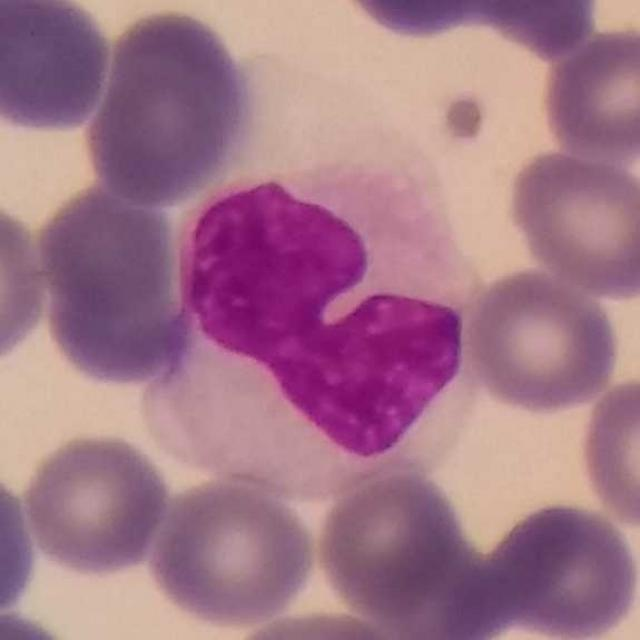Monocyte: (137, 156, 487, 499)
Platelets: (437, 89, 490, 147)
RBC: (78, 2, 261, 208), (142, 472, 320, 631), (313, 466, 471, 624), (459, 264, 623, 416), (30, 179, 187, 336), (18, 427, 174, 580), (477, 497, 639, 640), (502, 144, 640, 300), (0, 0, 117, 137), (536, 21, 640, 164), (382, 0, 612, 56), (574, 373, 640, 532), (0, 192, 53, 371), (327, 0, 536, 43), (220, 605, 418, 640), (0, 458, 41, 626), (0, 605, 87, 640)
